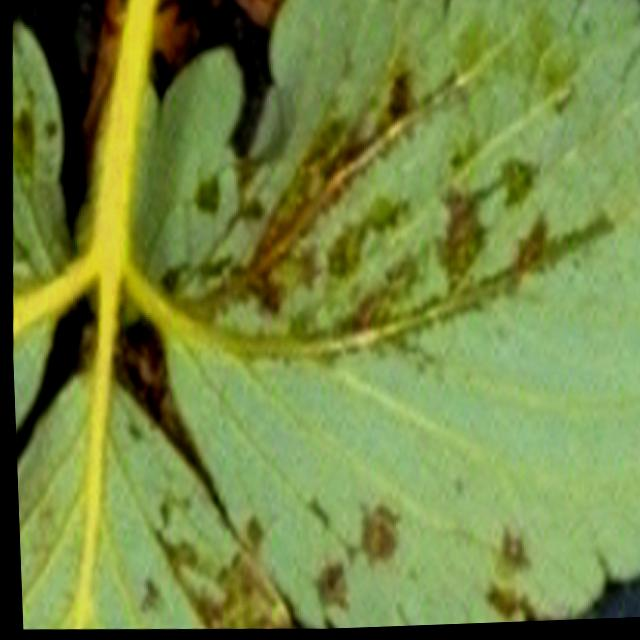Angular Leafspot: (68, 0, 640, 631), (13, 356, 290, 631), (9, 18, 72, 432)
